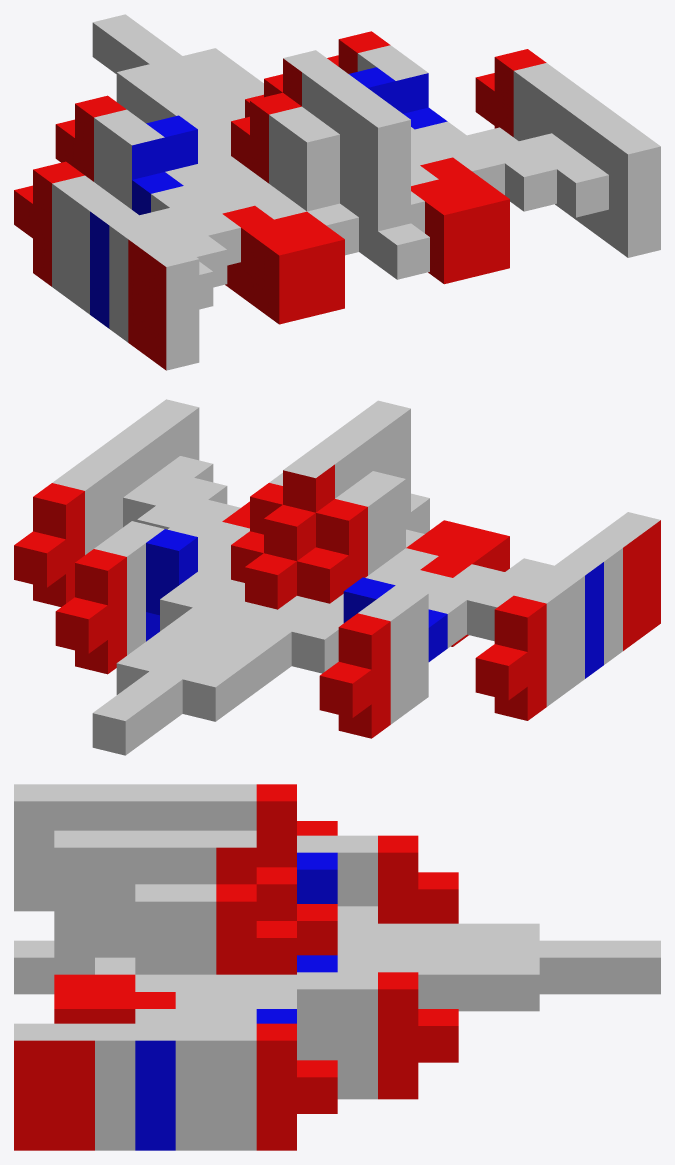
Rendered from GalagaShip.glb.
3 views of the same model, one above another, from view 1: azimuth 30°, elevation 25°; view 2: azimuth 150°, elevation 25°; view 3: azimuth 270°, elevation 25° (orthographic). The views are drawn at different scales.
Visible parts, largest first — view 1: Cube; view 2: Cube; view 3: Cube.
Part boxes in pixels (<box>): Cube: <box>14,14,660,370</box>; Cube: <box>14,399,660,755</box>; Cube: <box>14,784,660,1150</box>.
Size of the model in its own units: 30 by 10 by 32.
